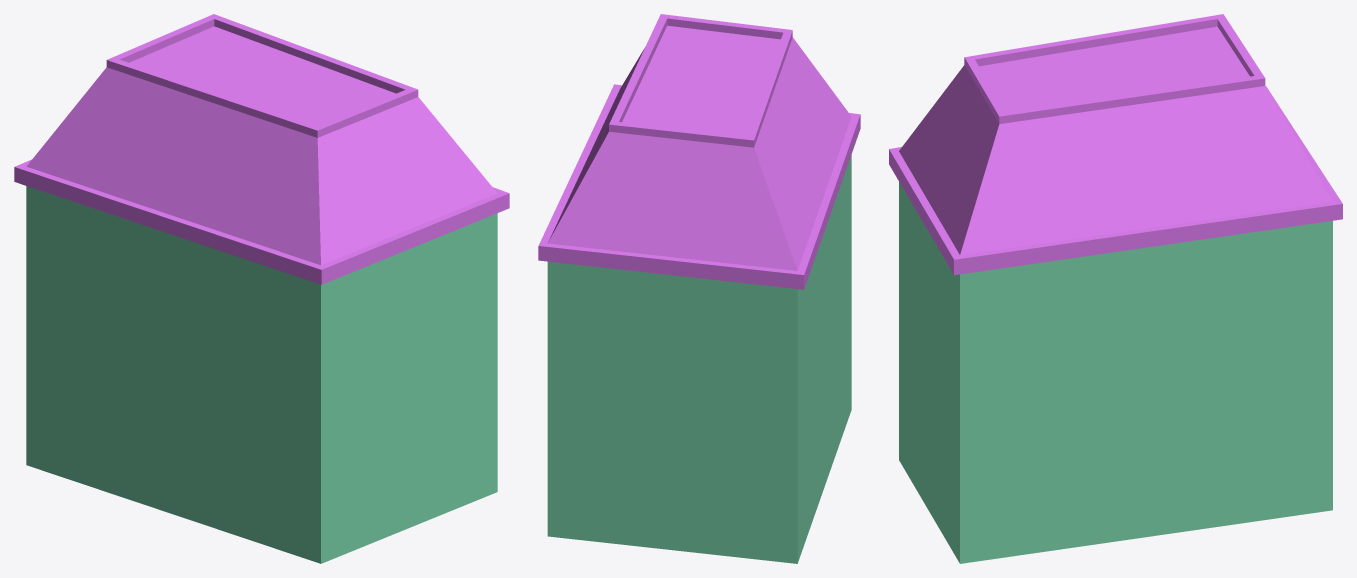
The model's file is Batiment10.fbx.
The picture shows the model from 3 angles, left to right: view 1: azimuth 30°, elevation 25°; view 2: azimuth 150°, elevation 25°; view 3: azimuth 270°, elevation 25°; orthographic projection. The views are drawn at different scales.
Parts seen in each view (by area): view 1: Batiment10; view 2: Batiment10; view 3: Batiment10.
Part boxes in pixels (box(x1,y1,x2,y2)): Batiment10: box(14, 14, 509, 563); Batiment10: box(538, 14, 860, 563); Batiment10: box(889, 14, 1342, 563).
Size of the model in its own units: 29.53 by 33.03 by 32.59.
